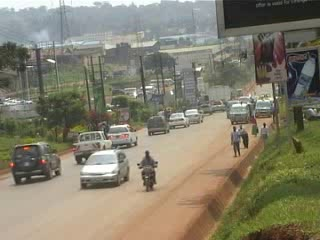Car: (9, 141, 63, 184), (78, 146, 131, 189), (107, 122, 140, 148), (144, 112, 172, 137), (168, 110, 190, 129), (184, 106, 204, 125), (211, 100, 224, 112)
Motorcycle: (136, 152, 158, 193)
